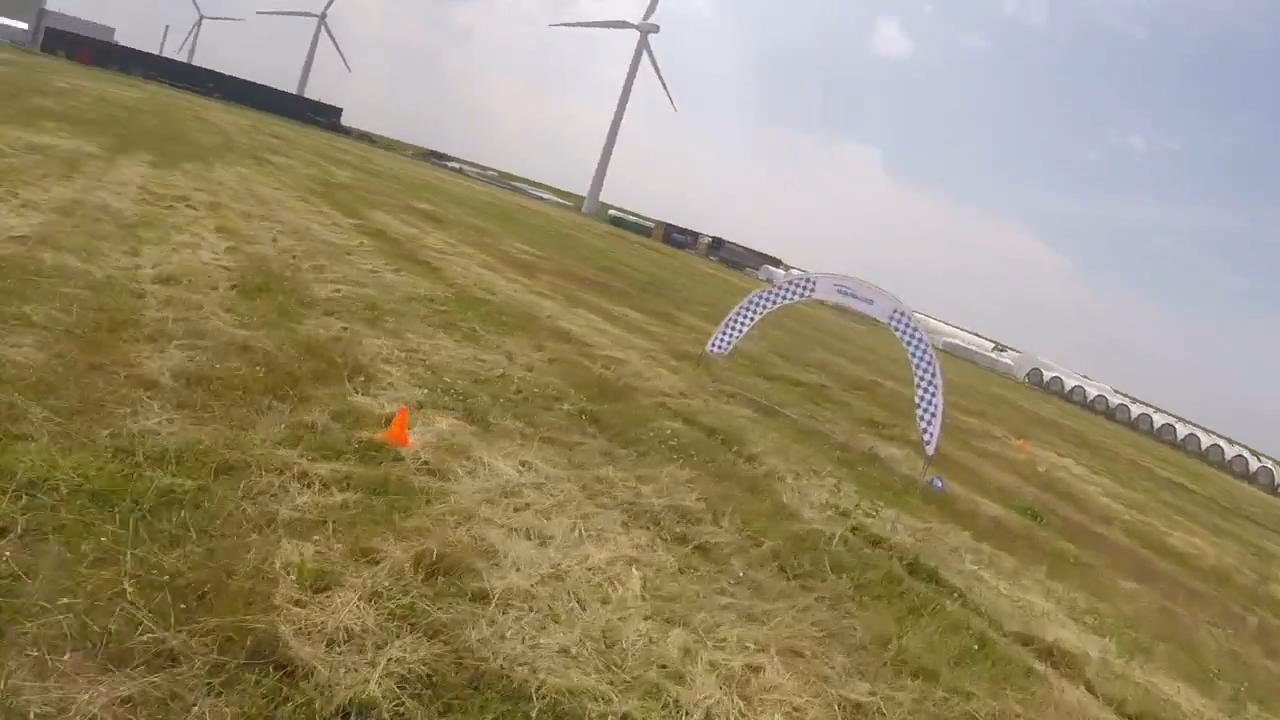gate: (701, 270, 944, 458)
